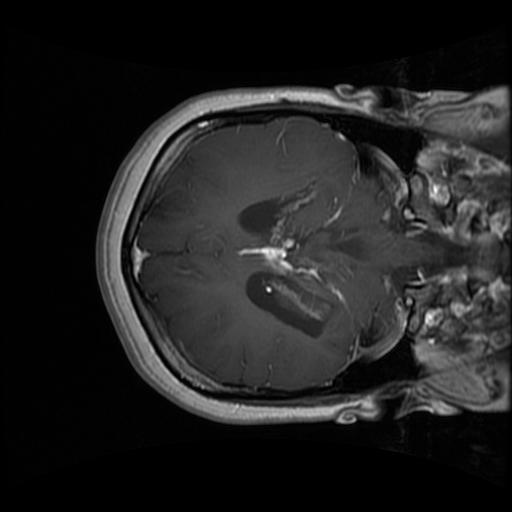glioma: (262, 184, 348, 322)
